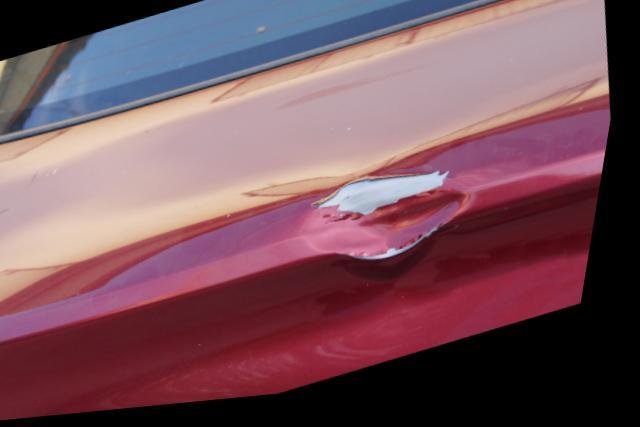dent: (313, 175, 479, 265)
